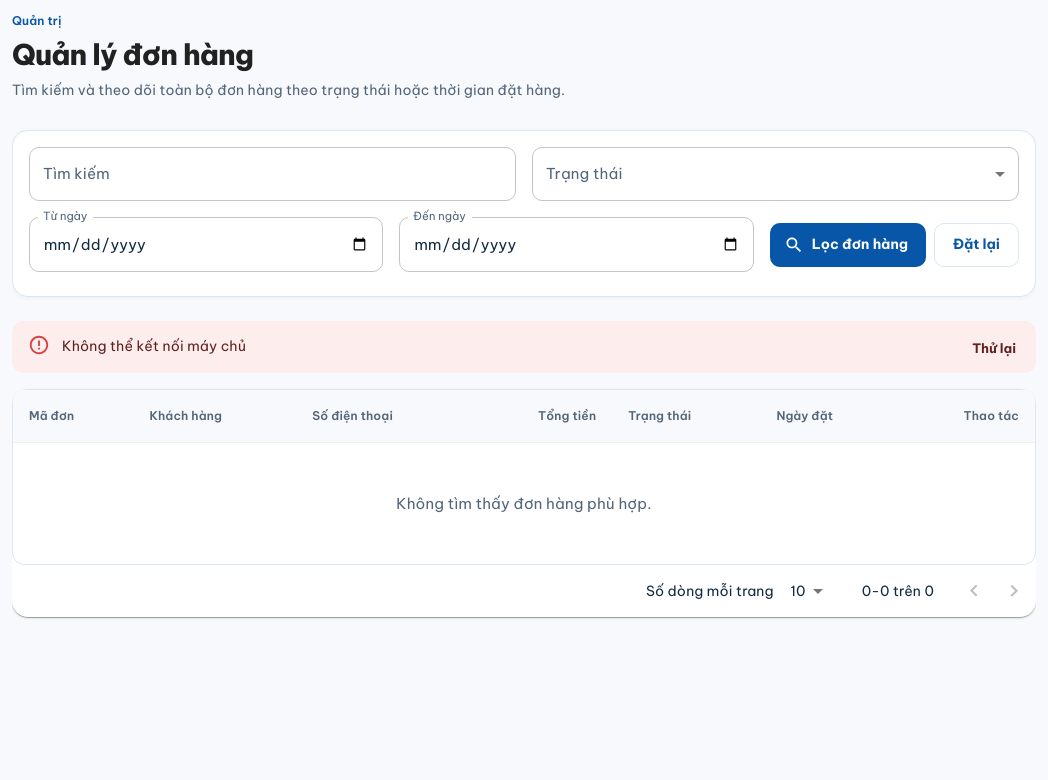
US-09.4: admin order list page › shows an error and can retry loading
This screenshot has width=1048, height=780.
Expected: the text "Không thể kết nối máy chủ" is shown, x1=62 y1=337 x2=246 y2=355
Click the button "Thử lại" at {"x": 994, "y": 349}, box x1=960 y1=331 x2=1028 y2=367
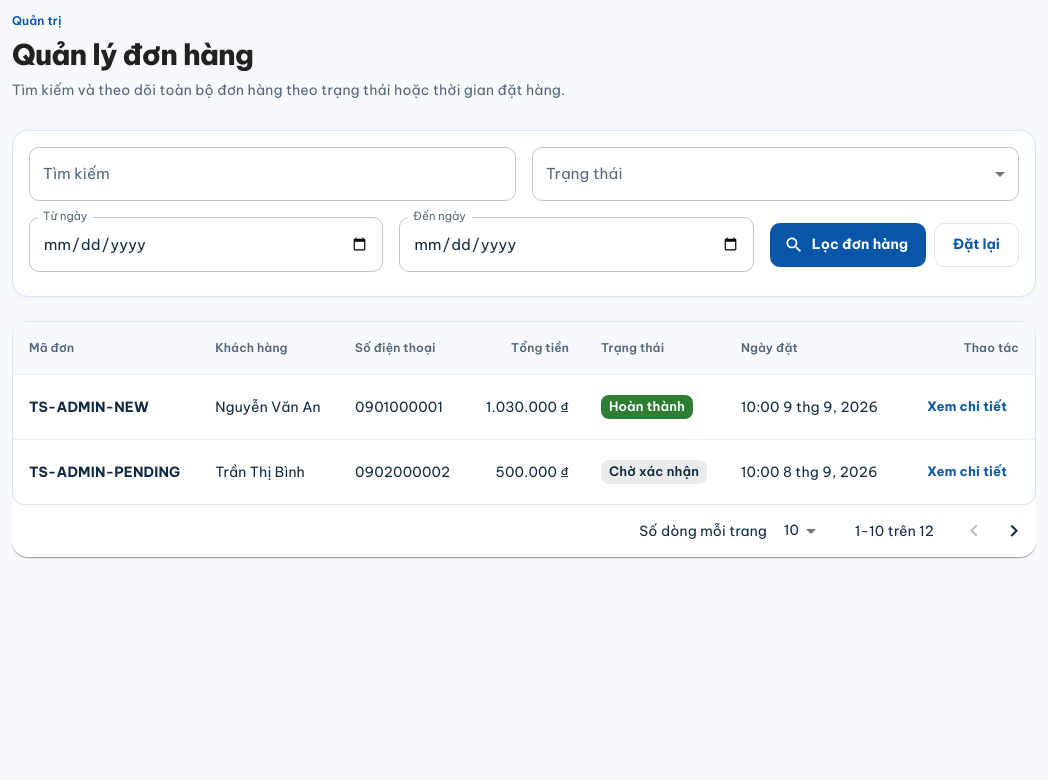
Expected: the text "TS-ADMIN-NEW" is shown, x1=13 y1=375 x2=199 y2=440
